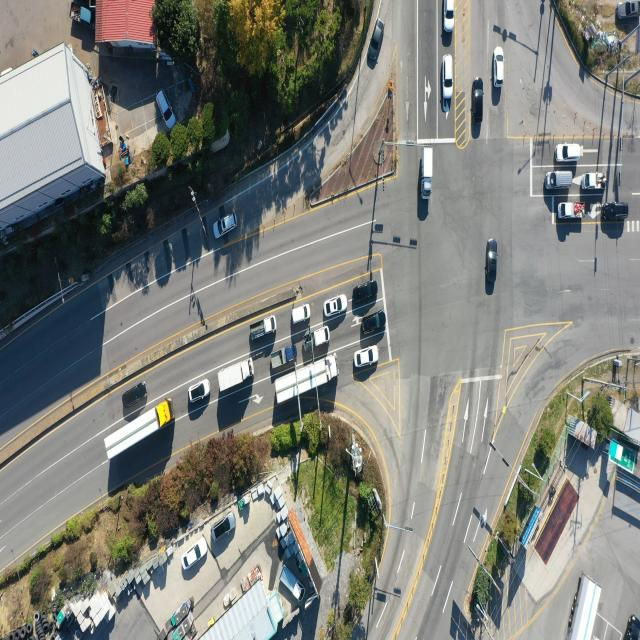car: (184, 534, 208, 575), (122, 380, 148, 410), (157, 90, 176, 130), (469, 80, 484, 123), (546, 169, 576, 190), (602, 203, 629, 226), (213, 512, 235, 540), (360, 313, 384, 337), (214, 213, 236, 239), (488, 238, 499, 290), (187, 380, 210, 404), (443, 54, 455, 99), (326, 293, 349, 316), (354, 347, 378, 369), (352, 282, 376, 304), (556, 143, 582, 162), (617, 0, 640, 20), (622, 614, 639, 640), (290, 304, 310, 326), (494, 48, 504, 88), (444, 0, 455, 31)
medium_truck: (103, 398, 172, 462), (271, 352, 337, 403), (567, 575, 601, 639), (218, 357, 254, 394)
small_truck: (279, 564, 303, 599), (421, 146, 434, 201), (271, 344, 298, 370), (306, 327, 333, 352), (252, 318, 278, 343), (69, 1, 94, 26), (558, 201, 585, 221), (583, 171, 607, 191)
